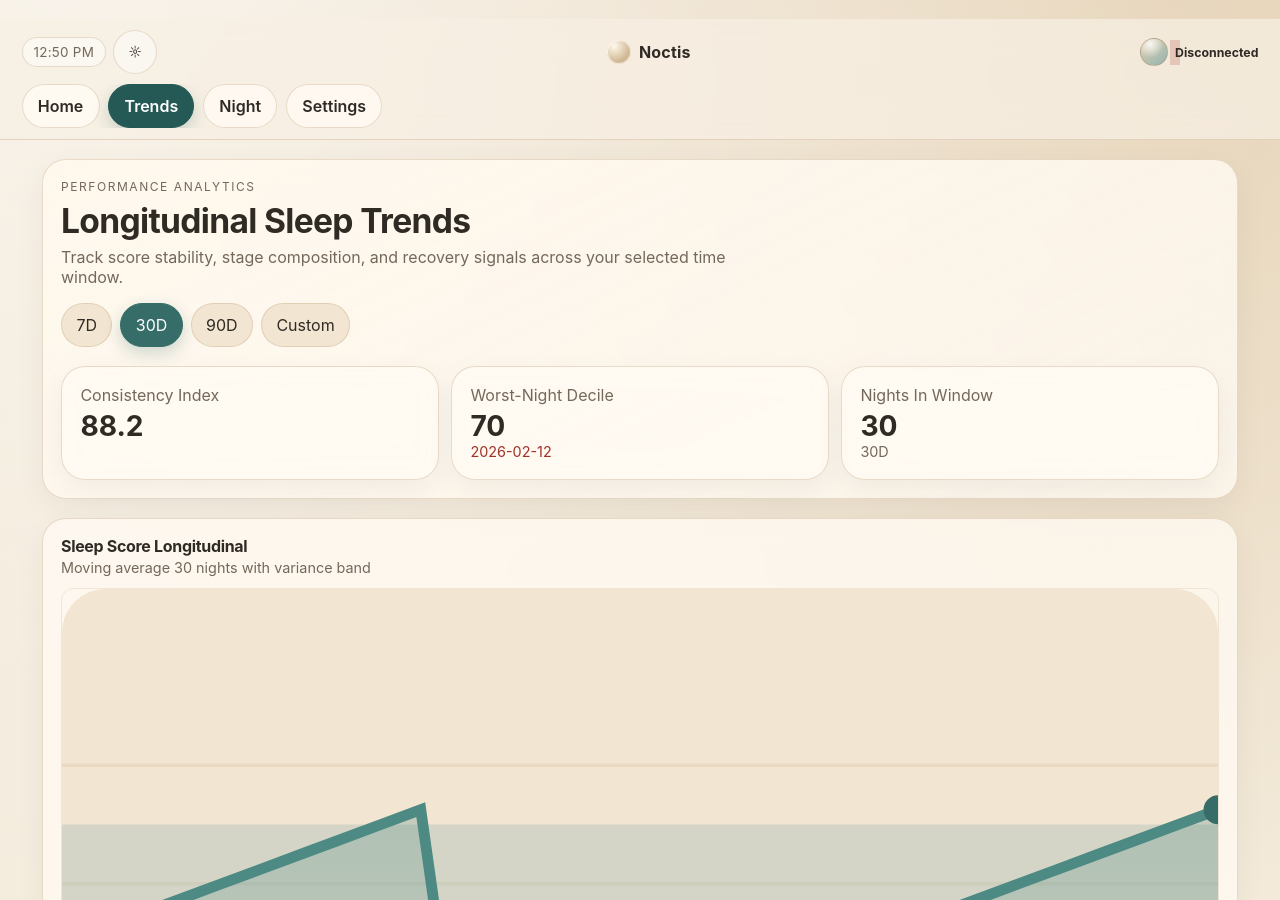
Test: trends page › updates rendered trend window when filter changes
expect the text "Moving average 30 nights with variance band" is shown: met, box [61,559,371,576]
Click the button "7D".
click(87, 325)  # box [61,303,112,347]
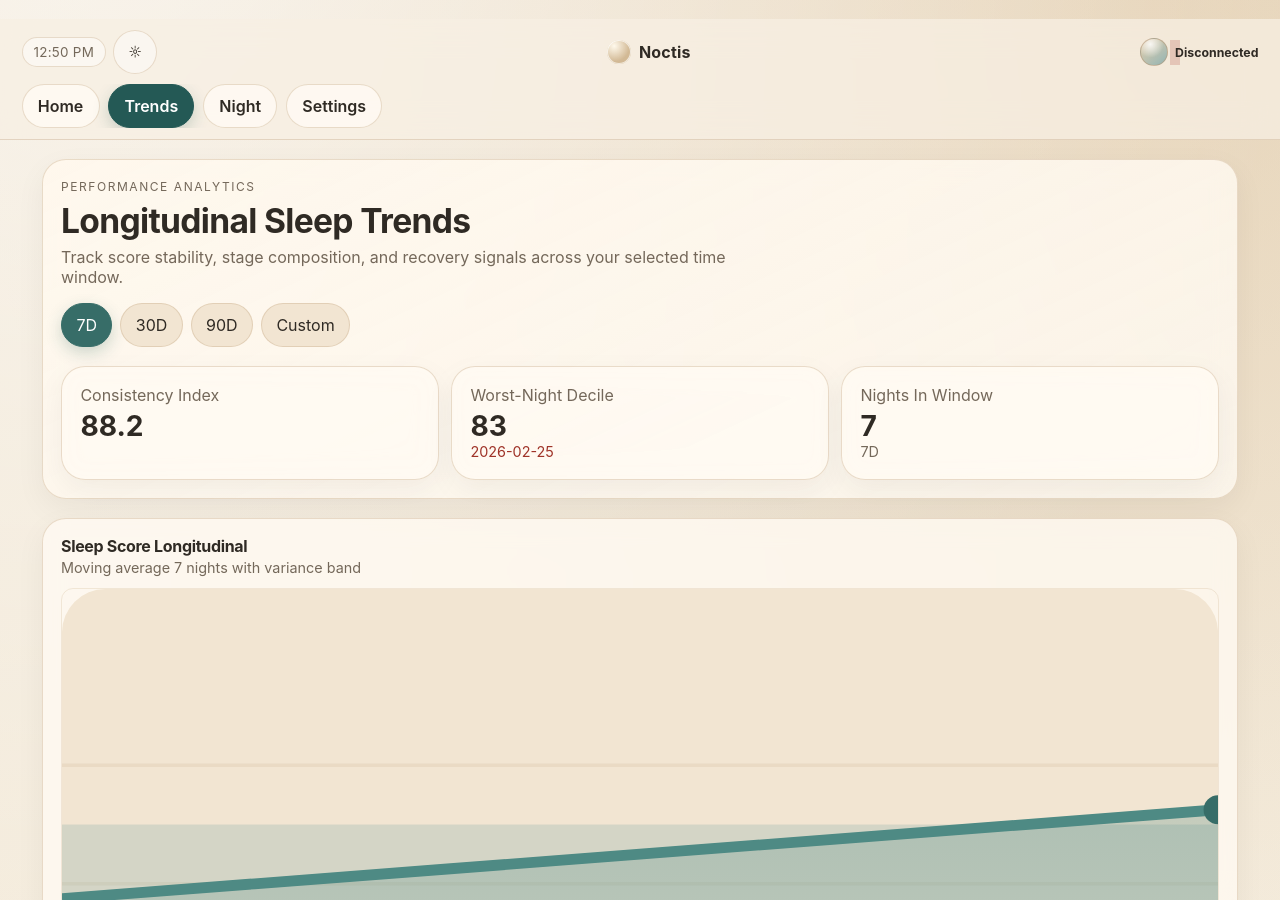
expect the text "Moving average 7 nights with variance band" is shown: met, box [61,559,361,576]
